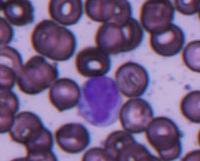M: (78, 74, 122, 126)
